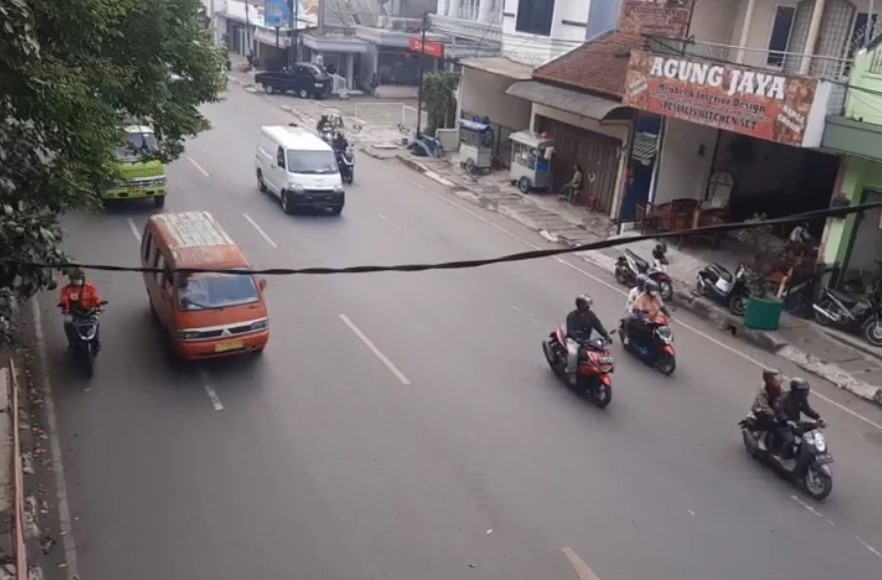mobil: (135, 208, 274, 368), (252, 121, 345, 214)
motor: (740, 363, 836, 503), (541, 291, 619, 409), (617, 280, 681, 375), (59, 270, 103, 376)
